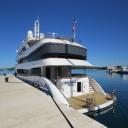cruises: (15, 21, 119, 122)
